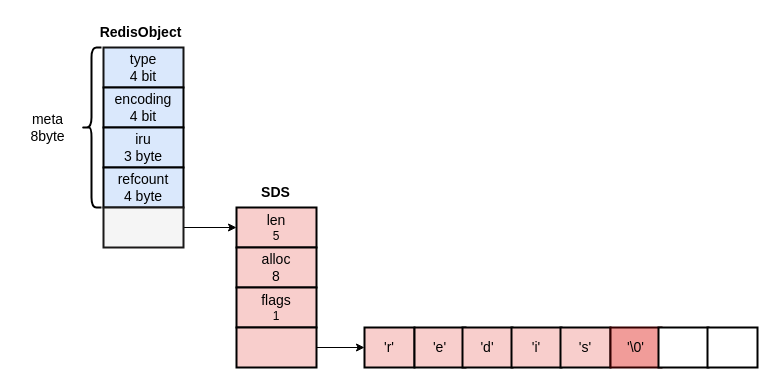
Some shapes in this 775 by 385 pixel diagram are drawn without their labels. The centre of each missing label's shape, as x and y in pixels:
"*ptr 8 byte" goes at [143,227].
"buf" goes at [276,347].
